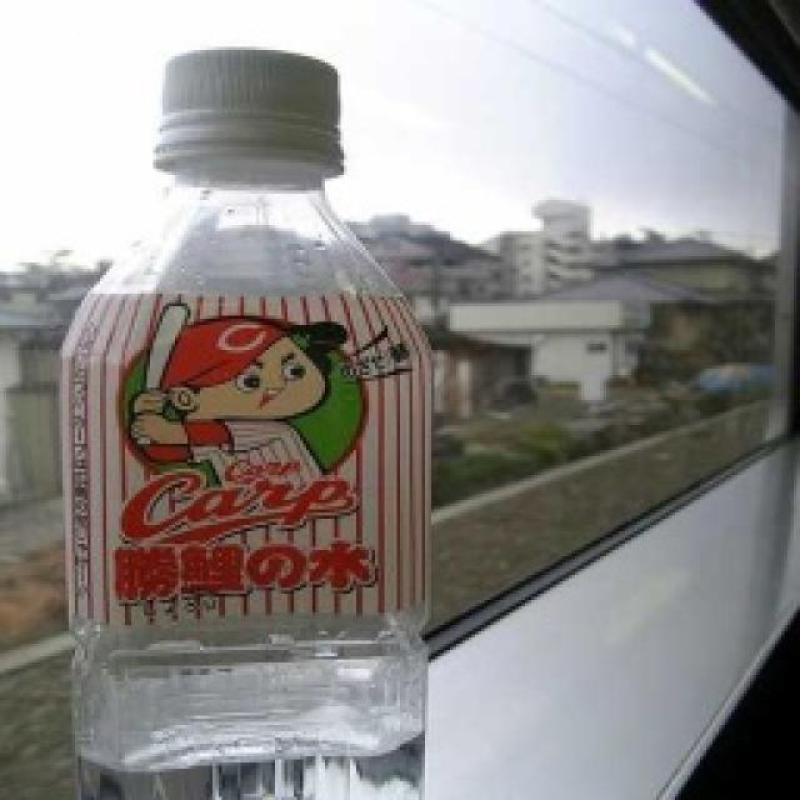botella: (58, 44, 430, 800)
